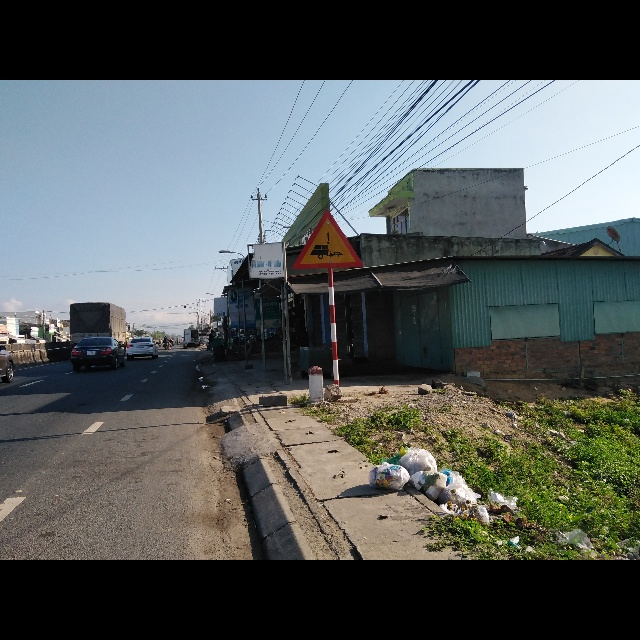Đoạn đường hay xảy ra tai nạn: (293, 209, 364, 272)
